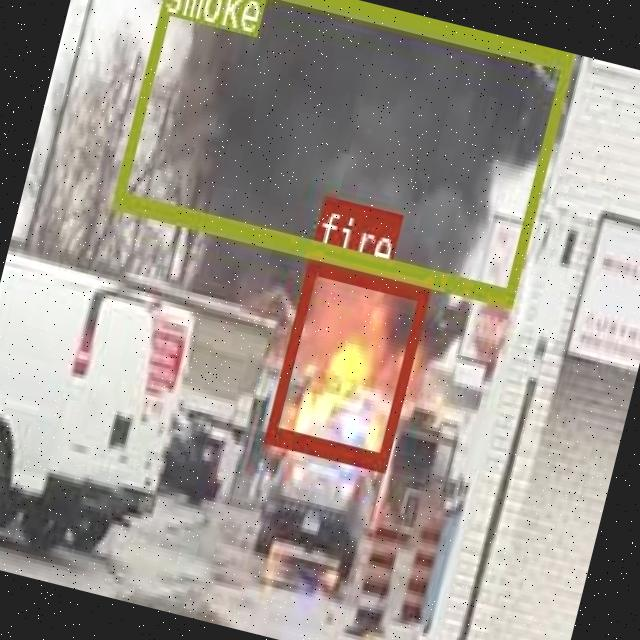fire: (262, 251, 428, 468)
smoke: (110, 0, 571, 300)
